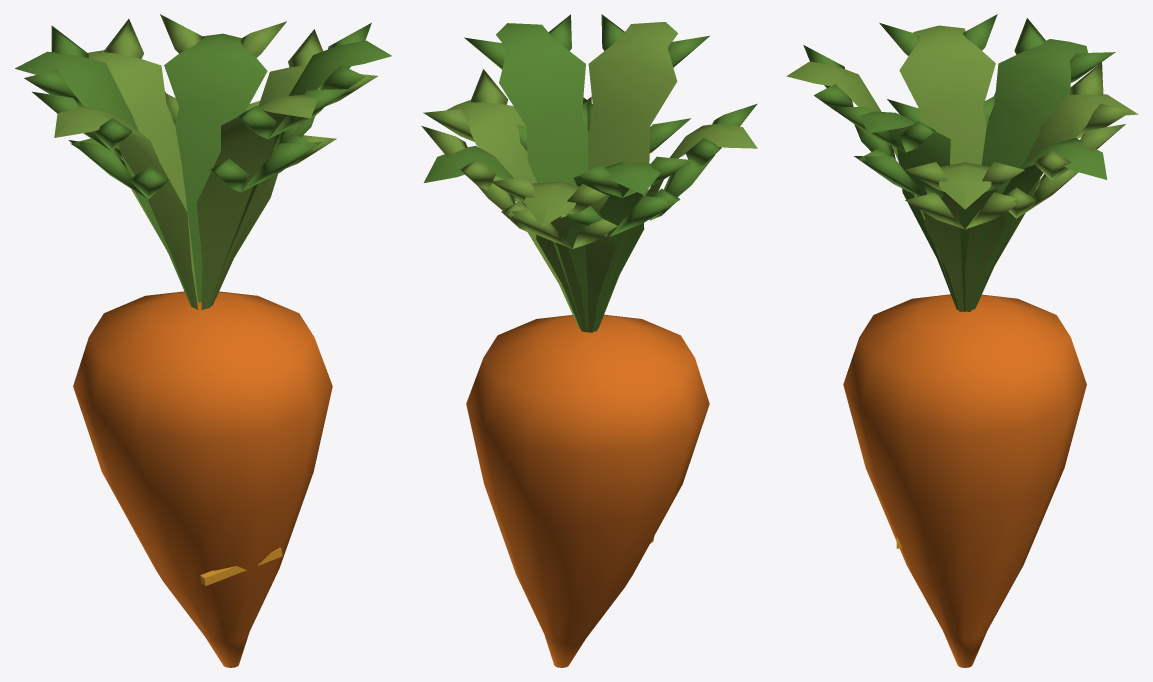
File: carrot.glb
3 renders of one model, left to right at view 1: azimuth 30°, elevation 25°; view 2: azimuth 150°, elevation 25°; view 3: azimuth 270°, elevation 25°, orthographic. The views are drawn at different scales.
Parts seen in each view (by area): view 1: carrot_FARM_VERTEX_COLOR; view 2: carrot_FARM_VERTEX_COLOR; view 3: carrot_FARM_VERTEX_COLOR.
Part boxes in pixels (x1,y1,x2,y2): carrot_FARM_VERTEX_COLOR: (15, 14, 391, 667); carrot_FARM_VERTEX_COLOR: (421, 14, 757, 667); carrot_FARM_VERTEX_COLOR: (786, 14, 1138, 667).
Bounding box in the file's own units: 0.5486 × 1 × 0.5426.
